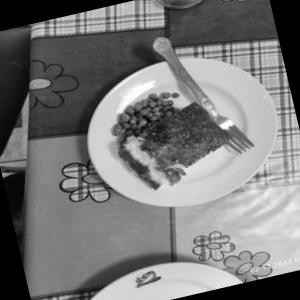casserole: (95, 72, 244, 208)
